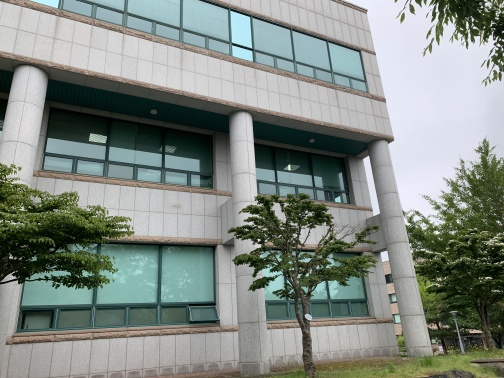Second Library: (3, 1, 407, 369)
